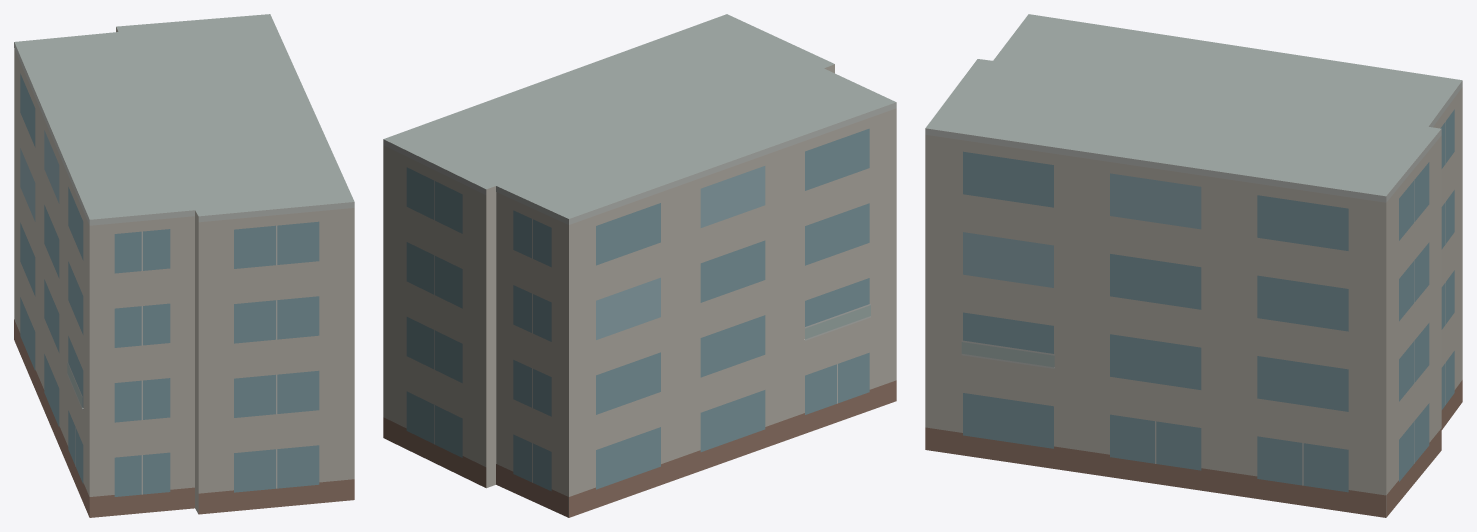
The model's file is survey-upis-32629570.glb.
3 views of the same model, side by side, from view 1: azimuth 30°, elevation 25°; view 2: azimuth 150°, elevation 25°; view 3: azimuth 270°, elevation 25° (orthographic). The views are drawn at different scales.
Parts seen in each view (by area): view 1: survey-upis-32629570.tmp; view 2: survey-upis-32629570.tmp; view 3: survey-upis-32629570.tmp.
Boxes of the visible parts, x1,y1,x2,y2 form: survey-upis-32629570.tmp: (14, 14, 354, 517); survey-upis-32629570.tmp: (383, 14, 896, 517); survey-upis-32629570.tmp: (925, 14, 1462, 517).
Size of the model in its own units: 14.84 by 12.2 by 18.49.
